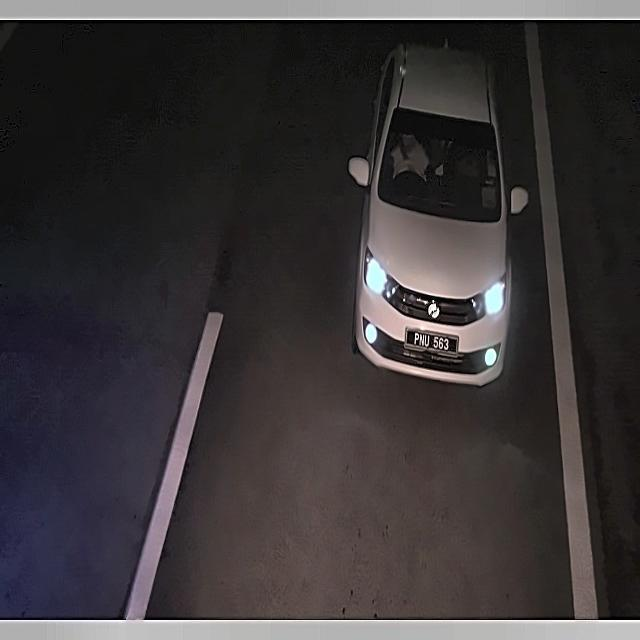car: (403, 329, 461, 360)
